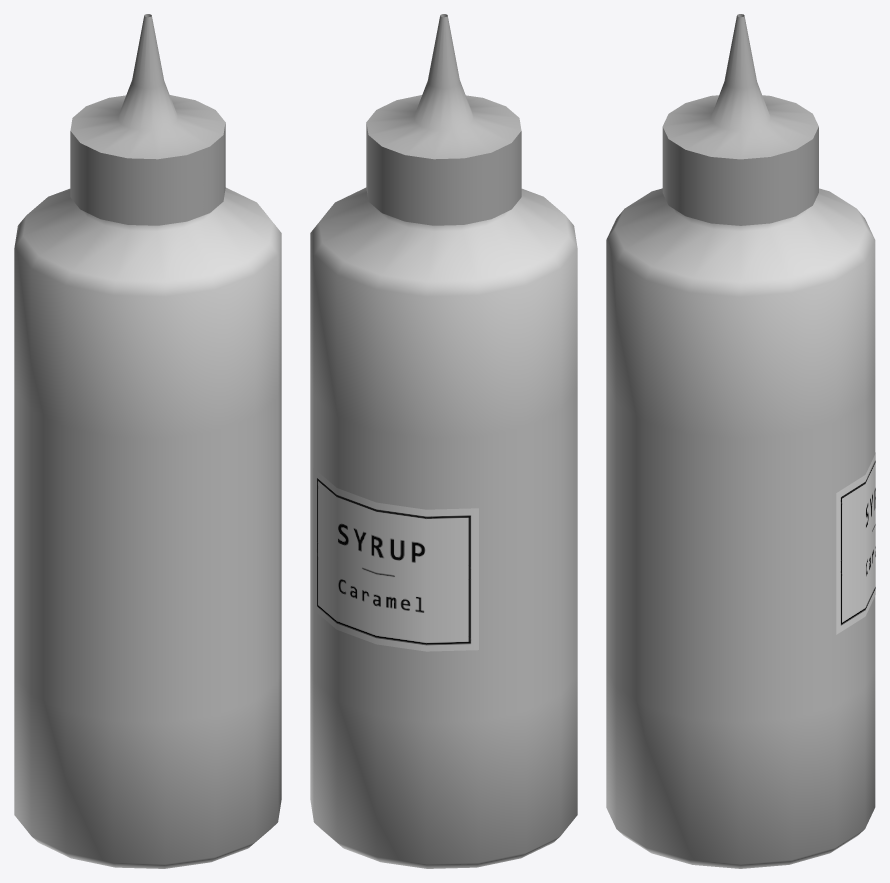
File: Syrup_Caramel.fbx
3 views of the same model, side by side, from view 1: azimuth 30°, elevation 25°; view 2: azimuth 150°, elevation 25°; view 3: azimuth 270°, elevation 25° (orthographic).
Parts seen in each view (by area): view 1: Syrup; view 2: Syrup; view 3: Syrup.
Part boxes in pixels (bbox=[...]): Syrup: bbox=[14, 14, 281, 868]; Syrup: bbox=[310, 14, 577, 868]; Syrup: bbox=[606, 14, 875, 868].
Size of the model in its own units: 0.0711 by 0.0712 by 0.233.
